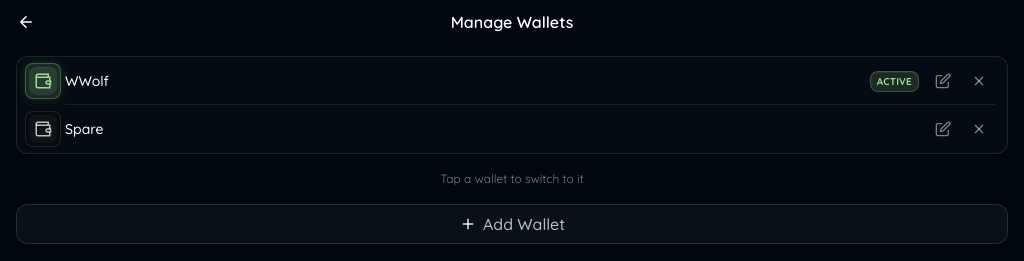
Scenario: ManageWalletsView rename › focuses and selects the field when rename starts
The image size is (1024, 261).
Click the 1st button titled "Rename wallet": (943, 81) [927,65,959,97]
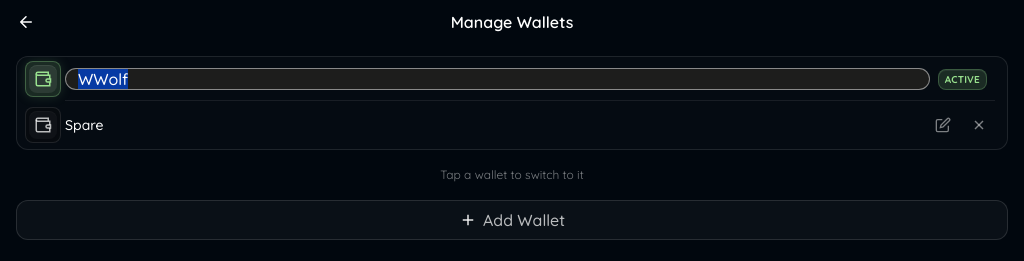
Expected: the field with class "rename-input" holds "WWolf", [65,68,930,90]
